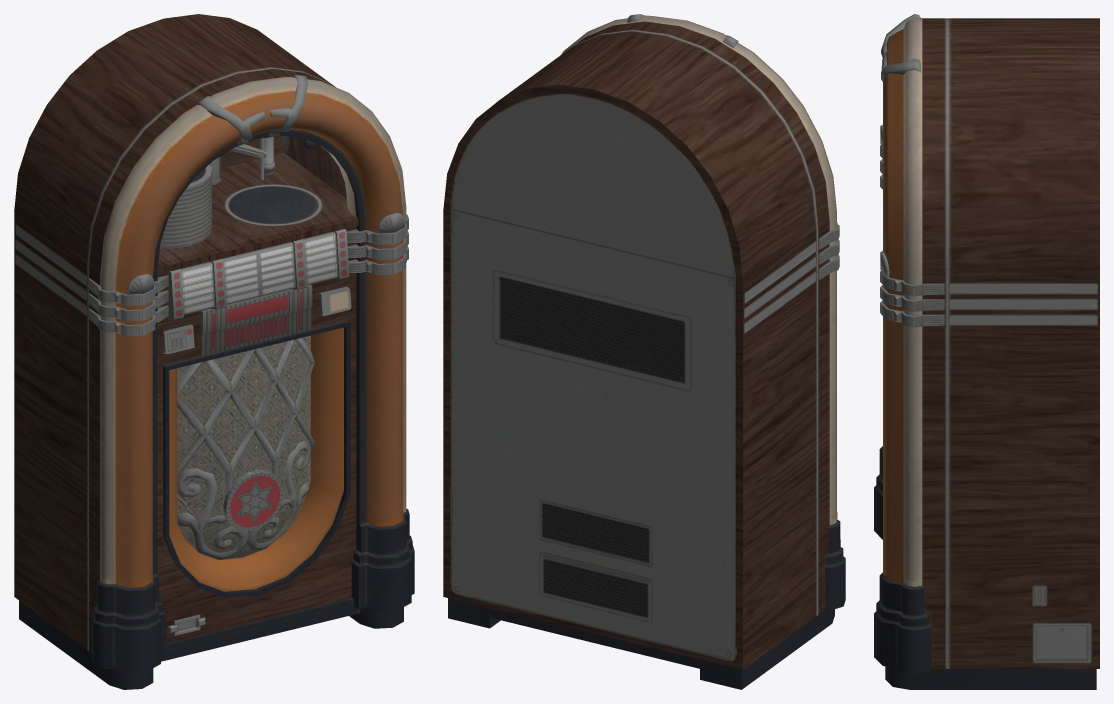
The model's file is jukebox.glb.
3 views of the same model, side by side, from view 1: azimuth 30°, elevation 25°; view 2: azimuth 150°, elevation 25°; view 3: azimuth 270°, elevation 25° (orthographic). The views are drawn at different scales.
Visible parts, largest first — view 1: Jukebox_UV_Jukebox_0; view 2: Jukebox_UV_Jukebox_0; view 3: Jukebox_UV_Jukebox_0.
Boxes of the visible parts, x1,y1,x2,y2 form: Jukebox_UV_Jukebox_0: (14, 14, 414, 689); Jukebox_UV_Jukebox_0: (443, 14, 845, 689); Jukebox_UV_Jukebox_0: (874, 14, 1099, 689).
Bounding box in the file's own units: 91.94 × 156 × 54.72.
Materials: 2 (2 with a texture image).
